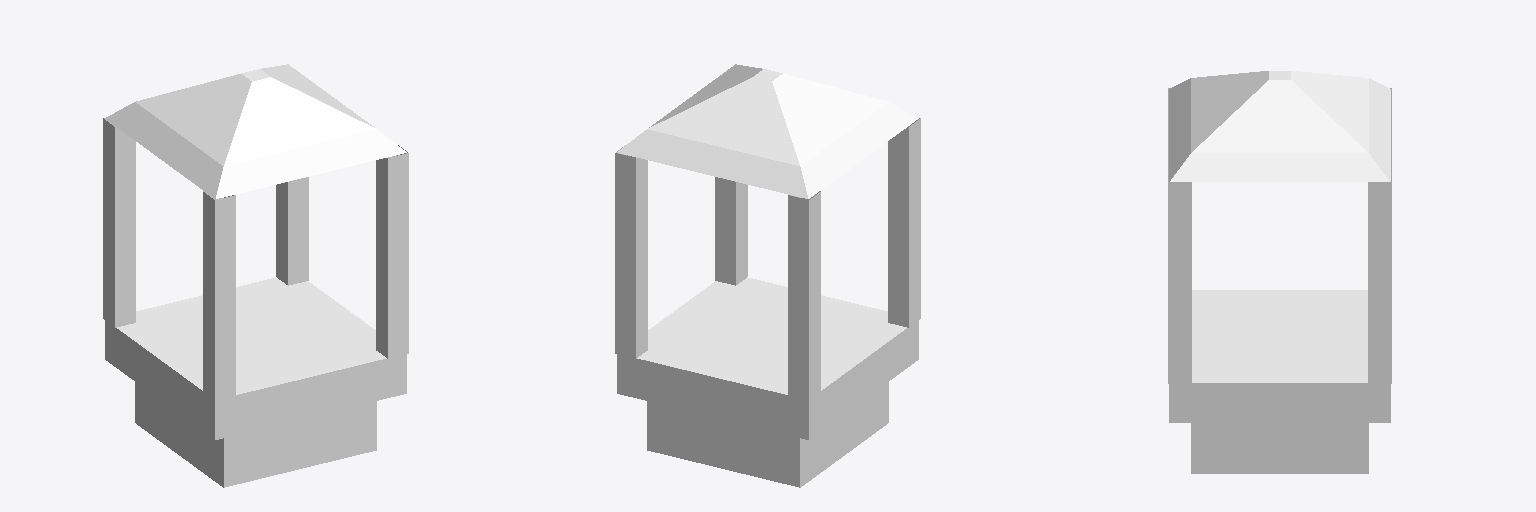
File: vat.obj
The picture shows the model from 3 angles: view 1: azimuth 30°, elevation 25°; view 2: azimuth 150°, elevation 25°; view 3: azimuth 270°, elevation 25°; orthographic projection.
Parts seen in each view (by area): view 1: g5_group, g9_group, g6_group, g3_group, g2_group, g4_group; view 2: g5_group, g9_group, g6_group, g4_group, g3_group, g2_group; view 3: g6_group, g9_group, g5_group, g2_group, g4_group.
Boxes of the visible parts, x1=… form: g5_group: x1=215, y1=77, x2=406, y2=487; g9_group: x1=103, y1=69, x2=386, y2=394; g6_group: x1=105, y1=64, x2=374, y2=487; g3_group: x1=203, y1=191, x2=235, y2=400; g2_group: x1=376, y1=145, x2=408, y2=358; g4_group: x1=276, y1=177, x2=308, y2=285; g5_group: x1=617, y1=77, x2=808, y2=487; g9_group: x1=637, y1=69, x2=906, y2=400; g6_group: x1=649, y1=64, x2=918, y2=487; g4_group: x1=615, y1=145, x2=647, y2=358; g3_group: x1=888, y1=118, x2=920, y2=327; g2_group: x1=715, y1=177, x2=747, y2=285; g6_group: x1=1169, y1=80, x2=1390, y2=473; g9_group: x1=1192, y1=71, x2=1391, y2=382; g5_group: x1=1169, y1=71, x2=1390, y2=181; g2_group: x1=1168, y1=173, x2=1191, y2=383; g4_group: x1=1368, y1=173, x2=1391, y2=383.
Size of the model in its own units: 0.505 by 0.9 by 0.505.